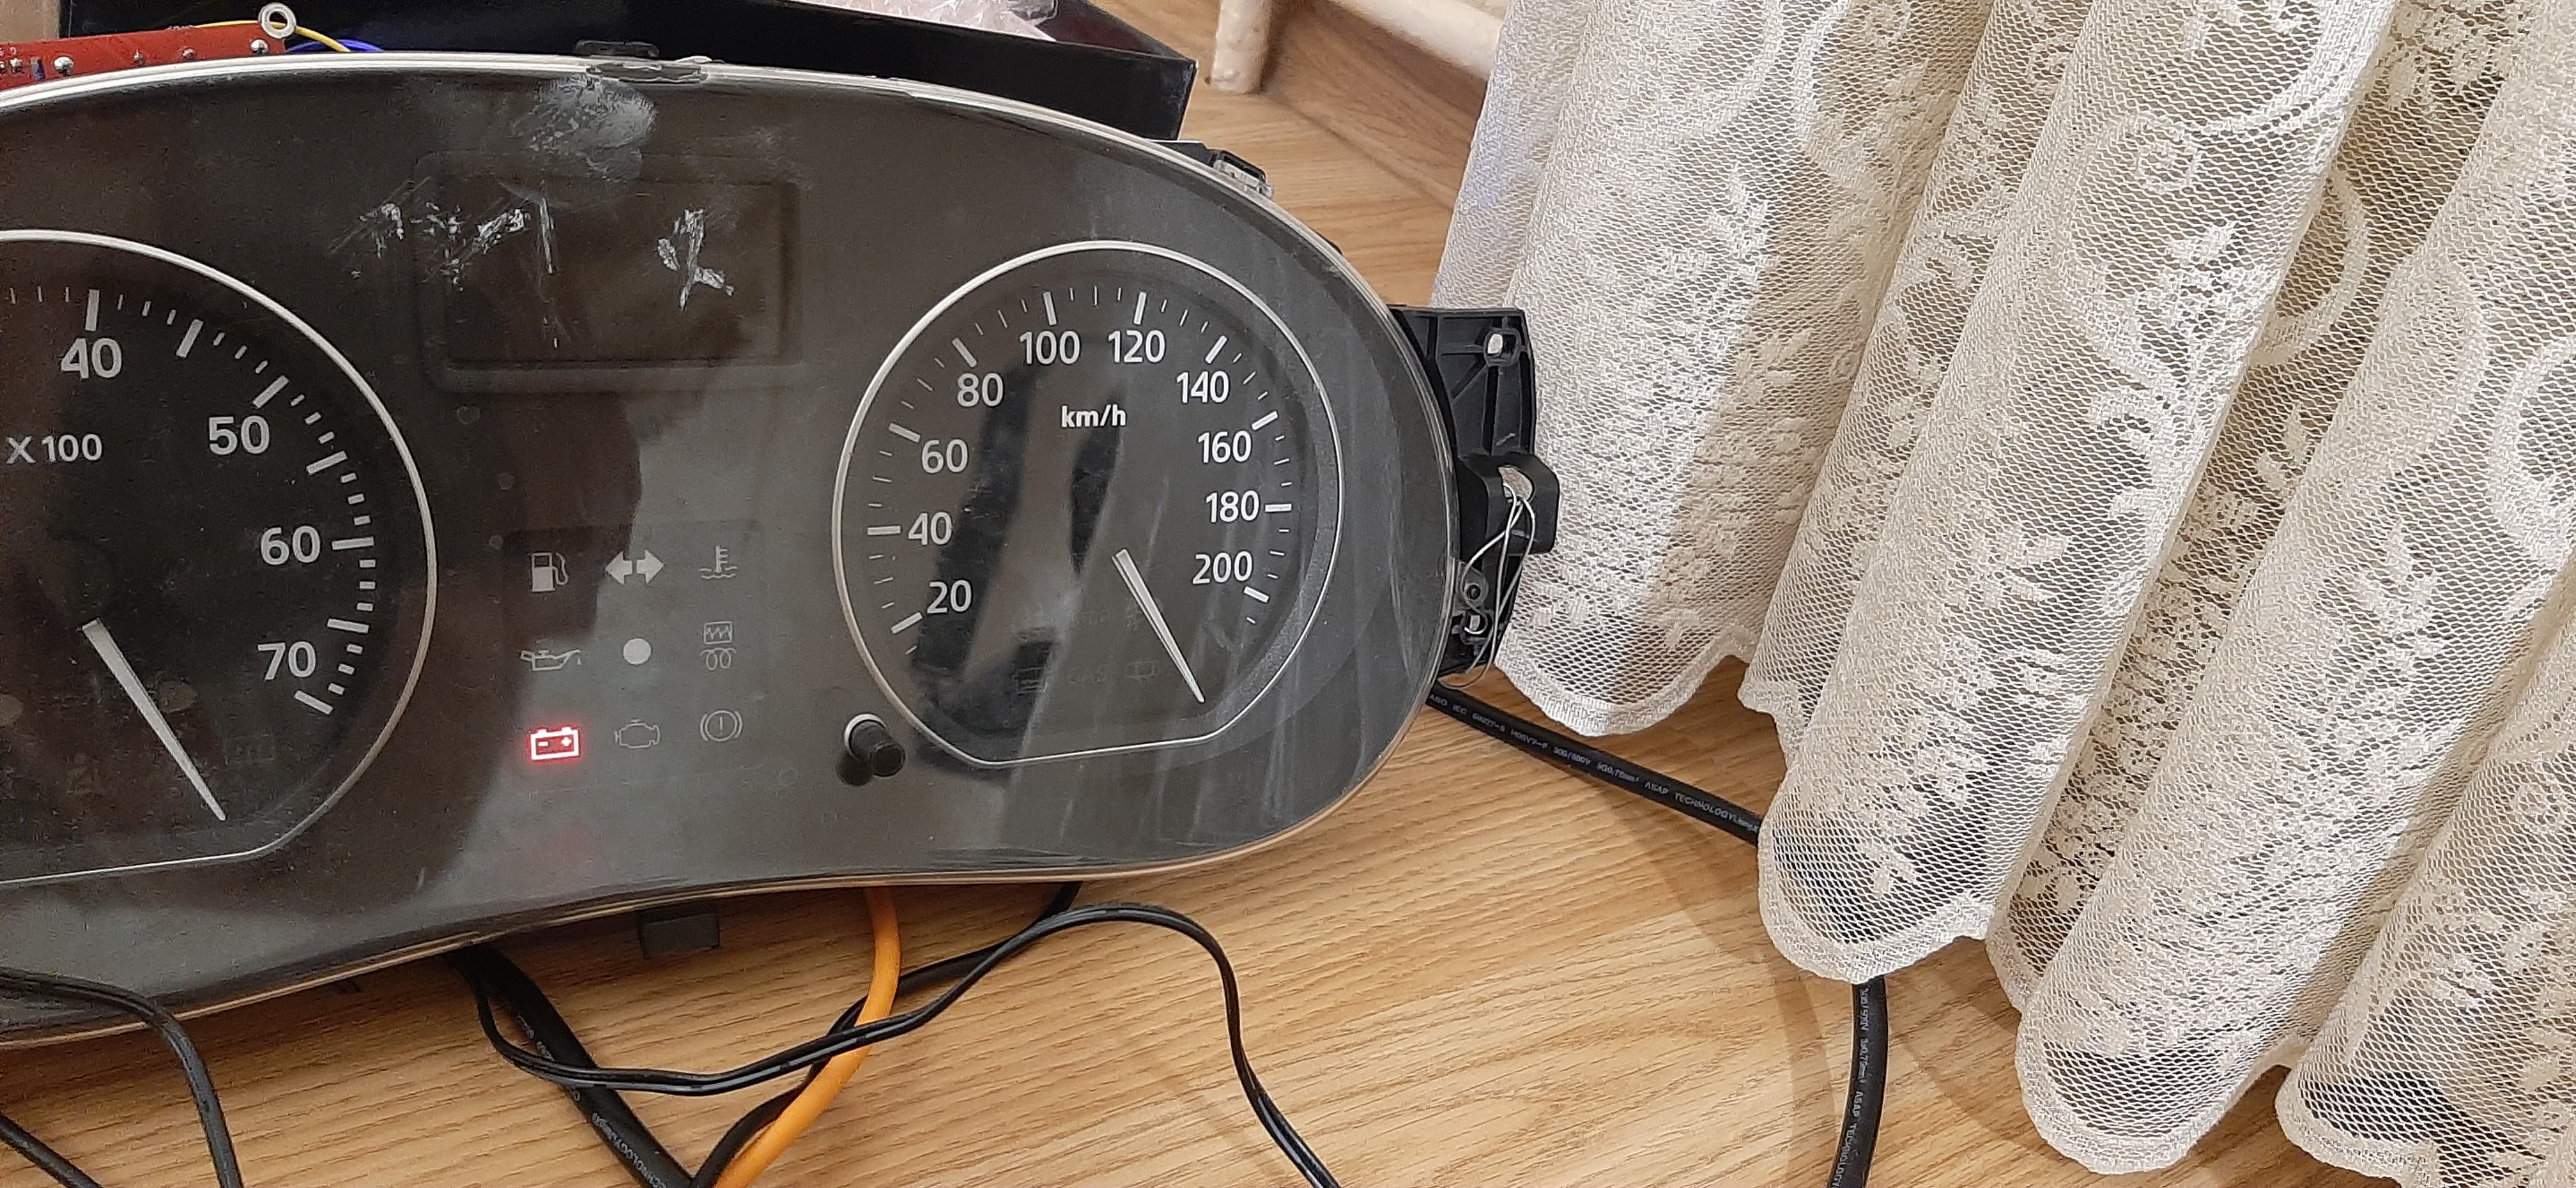accomulator21: (521, 718, 586, 764)
